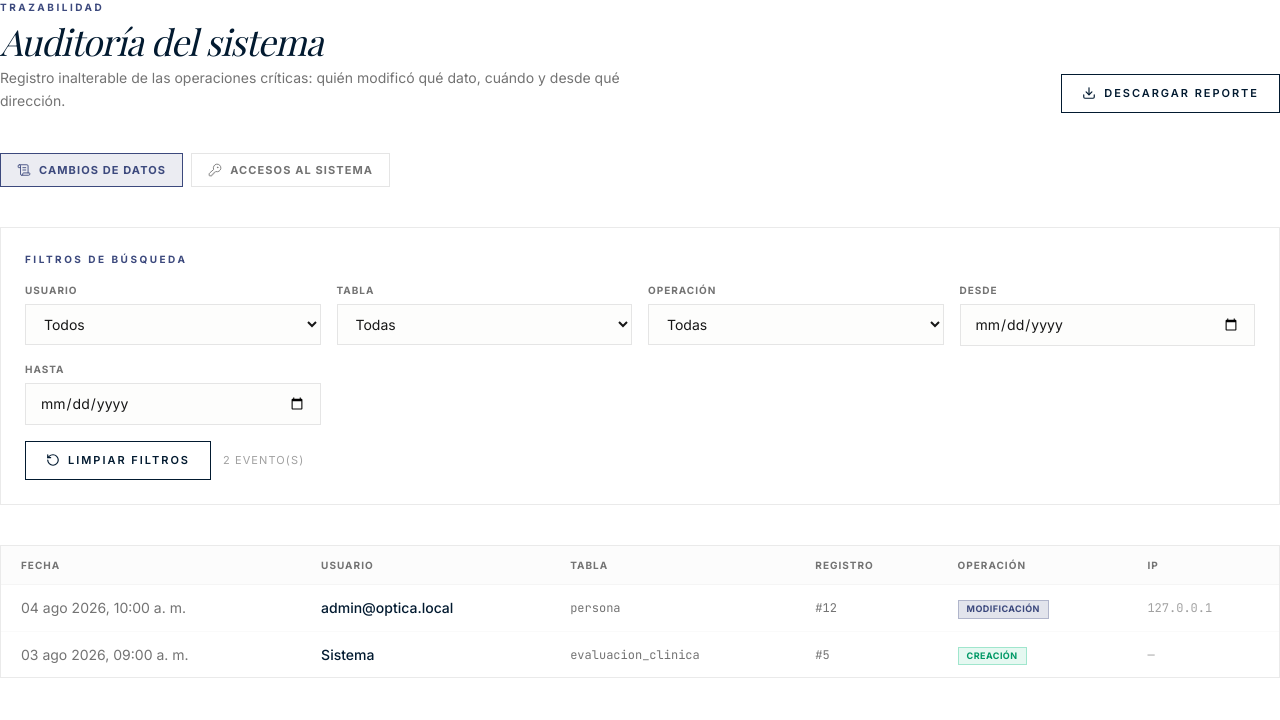
it: AuditoriaPage › 3. Detalle del evento › CU-08 pasos 5 y 6: al hacer clic muestra el valor nuevo del registro
The image size is (1280, 720).
Click the cell "persona" at (595, 608), box top-left (550, 584), bottom-right (795, 631)
(page scrolled)
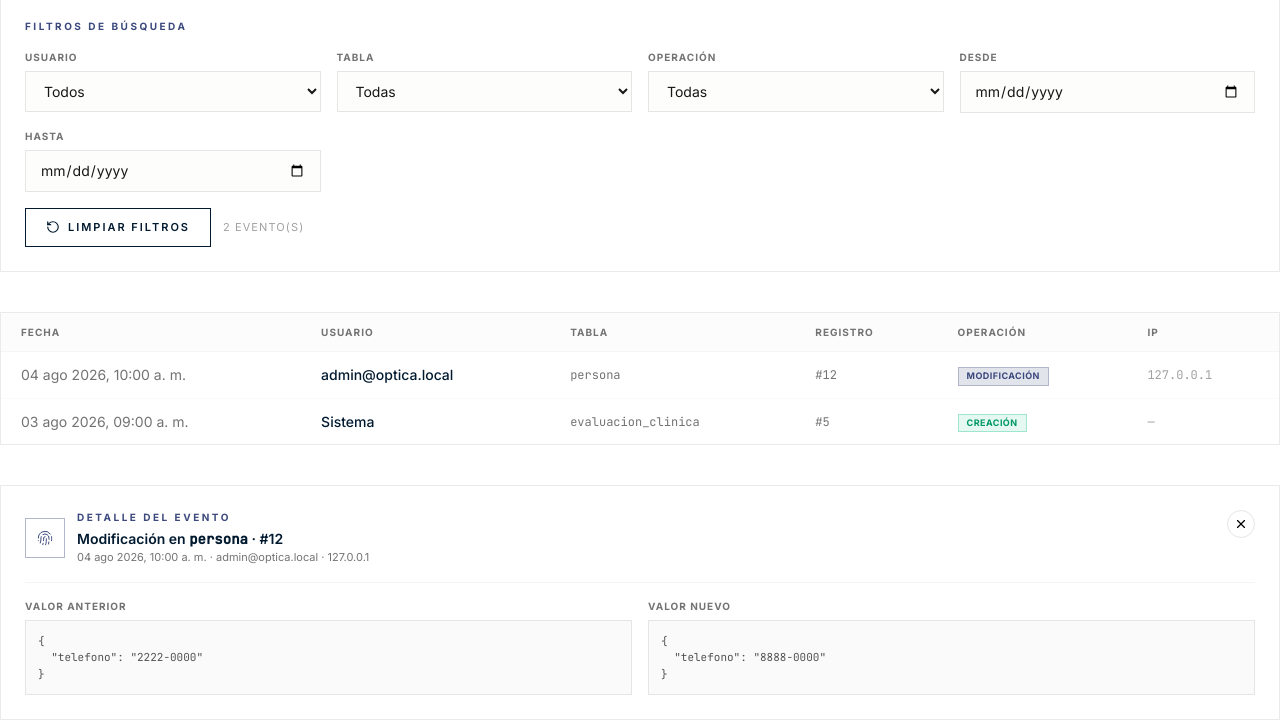
expect the text "Detalle del evento" is shown: met, box top-left (77, 512), bottom-right (231, 524)
expect the text "{ \"telefono\": \"8888-0000\" }" is shown: met, box top-left (648, 620), bottom-right (1255, 696)
